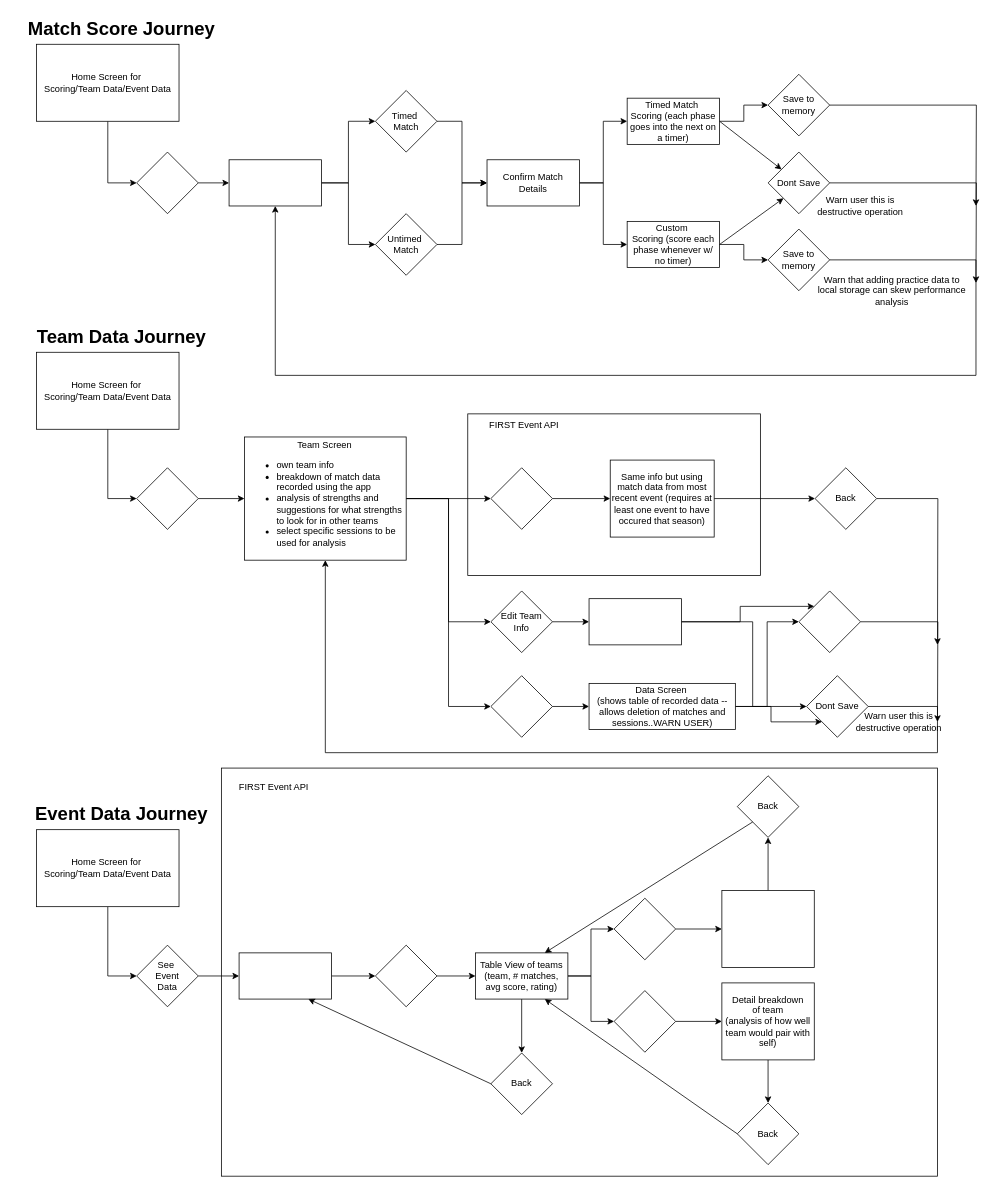
Some shapes in this 996 by 1190 pixel diagram are drawn without their labels. The centre of each missing label's shape, as x and y in pixels:
"Event Data Screen" goes at point 284,975.
"Info Popup (shows default team info for matches)" goes at point 634,621.
"Match Score Selection Screen" goes at point 274,182.
"Query API" goes at point 521,498.
"Save" goes at point 829,621.
"Score a Match" goes at point 167,182.
"See Team Data" goes at point 167,498.
"Select Event" goes at point 406,975.
"Select Team" goes at point 644,1021.
"Show which teams would pair well based on their and own performance at event" goes at point 767,929.
"View Favored Pairings" goes at point 644,928.
"View/Edit Stored Data" goes at point 521,706.
